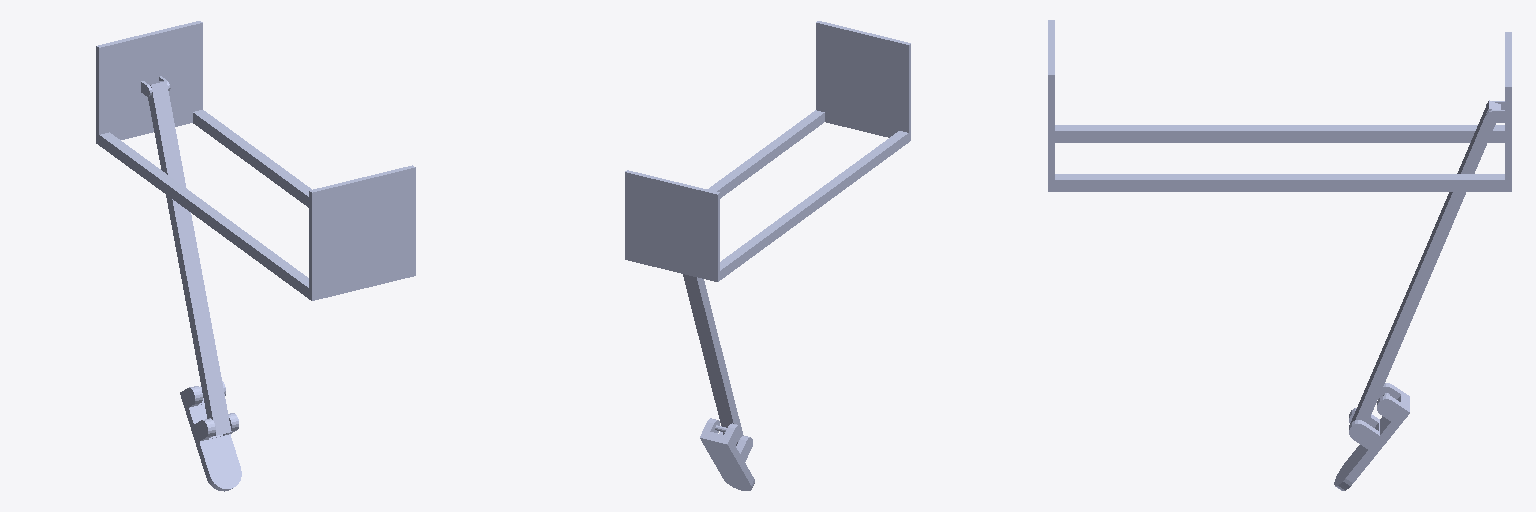
URDF robot description (Foot_assembly):
<?xml version="1.0" encoding="utf-8"?>
<!-- This URDF was automatically created by SolidWorks to URDF Exporter! Originally created by Stephen Brawner (brawner@gmail.com) 
     Commit Version: 1.6.0-4-g7f85cfe  Build Version: 1.6.7995.38578
     For more information, please see http://wiki.ros.org/sw_urdf_exporter -->
<robot
  name="Foot_assembly">
  <link
    name="base_link">
    <inertial>
      <origin
        xyz="0.1 0.351301660575514 0.0592754192947775"
        rpy="0 0 0" />
      <mass
        value="1.32792699081699" />
      <inertia
        ixx="0.124131988637656"
        ixy="-5.14335745369825E-17"
        ixz="-4.39571898567166E-19"
        iyy="0.0117845188134715"
        iyz="0.001774892248519"
        izz="0.126527258577759" />
    </inertial>
    <visual>
      <origin
        xyz="0 0 0"
        rpy="0 0 0" />
      <geometry>
        <mesh
          filename="package://Foot_assembly/meshes/base_link.STL" />
      </geometry>
      <material
        name="">
        <color
          rgba="0.792156862745098 0.819607843137255 0.933333333333333 1" />
      </material>
    </visual>
    <collision>
      <origin
        xyz="0 0 0"
        rpy="0 0 0" />
      <geometry>
        <mesh
          filename="package://Foot_assembly/meshes/base_link.STL" />
      </geometry>
    </collision>
  </link>
  <link
    name="link">
    <inertial>
      <origin
        xyz="0 -0.290033056266843 -0.000244083216248858"
        rpy="0 0 0" />
      <mass
        value="0.355287611019615" />
      <inertia
        ixx="0.0104224028504017"
        ixy="9.09183754731222E-19"
        ixz="-7.05290492875573E-22"
        iyy="3.86244830032149E-05"
        iyz="-8.75103074234823E-06"
        izz="0.0104370715090515" />
    </inertial>
    <visual>
      <origin
        xyz="0 0 0"
        rpy="0 0 0" />
      <geometry>
        <mesh
          filename="package://Foot_assembly/meshes/link.STL" />
      </geometry>
      <material
        name="">
        <color
          rgba="0.792156862745098 0.819607843137255 0.933333333333333 1" />
      </material>
    </visual>
    <collision>
      <origin
        xyz="0 0 0"
        rpy="0 0 0" />
      <geometry>
        <mesh
          filename="package://Foot_assembly/meshes/link.STL" />
      </geometry>
    </collision>
  </link>
  <joint
    name="base_joint"
    type="revolute">
    <origin
      xyz="0.1 0.69 0.09"
      rpy="0 0 0" />
    <parent
      link="base_link" />
    <child
      link="link" />
    <axis
      xyz="1 0 0" />
    <limit
      lower="1.2"
      upper="1.2"
      effort="10"
      velocity="2" />
  </joint>
  <link
    name="feet">
    <inertial>
      <origin
        xyz="2.4414E-10 -0.028894 -0.0037281"
        rpy="0 0 0" />
      <mass
        value="0.23162" />
      <inertia
        ixx="0.00058896"
        ixy="-1.5369E-12"
        ixz="1.5063E-12"
        iyy="0.0006074"
        iyz="9.6789E-05"
        izz="0.000143" />
    </inertial>
    <visual>
      <origin
        xyz="0 0 0"
        rpy="0 0 0" />
      <geometry>
        <mesh
          filename="package://Foot_assembly/meshes/feet.STL" />
      </geometry>
      <material
        name="">
        <color
          rgba="0.79216 0.81961 0.93333 1" />
      </material>
    </visual>
    <collision>
      <origin
        xyz="0 0 0"
        rpy="0 0 0" />
      <geometry>
        <mesh
          filename="package://Foot_assembly/meshes/feet.STL" />
      </geometry>
    </collision>
  </link>
  <joint
    name="feet_joint"
    type="revolute">
    <origin
      xyz="0 -0.575 -0.0004839"
      rpy="0 0 0" />
    <parent
      link="link" />
    <child
      link="feet" />
    <axis
      xyz="1 0 0" />
    <limit
      lower="1.2"
      upper="1.2"
      effort="10"
      velocity="2" />
  </joint>
</robot>

--- Facts derived from the render (not from the file) ---
Views: 3 orthographic renders of the robot side by side, from view 1: azimuth 30°, elevation 25°; view 2: azimuth 150°, elevation 25°; view 3: azimuth 270°, elevation 25°.
Robot: Foot_assembly — 3 links, 2 joints (2 revolute); root link base_link; default pose: all joints at 0 but 2 set to mid-range because 0 is outside their limits (base_joint = 1.2, feet_joint = 1.2).
Visible links, largest first — view 1: base_link, link, feet; view 2: base_link, link, feet; view 3: base_link, link, feet.
Boxes of the visible links, box(x1,y1,x2,y2) form: base_link: box(96, 21, 415, 300); link: box(148, 81, 231, 435); feet: box(180, 381, 241, 491); base_link: box(625, 21, 910, 281); link: box(683, 274, 743, 445); feet: box(700, 418, 754, 490); base_link: box(1048, 20, 1511, 191); link: box(1349, 100, 1500, 425); feet: box(1334, 383, 1409, 490).
Size in the robot's own frame: 0.2 by 0.72 by 0.7572 metres.
Meshes: 3 distinct files referenced, 3 mesh visuals loaded (3 binary STL).
